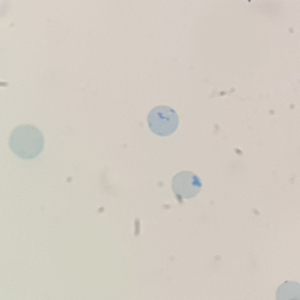aggregate reticulocyte: (145, 104, 182, 138)
erythrocyte: (7, 123, 46, 161), (170, 170, 204, 200)
